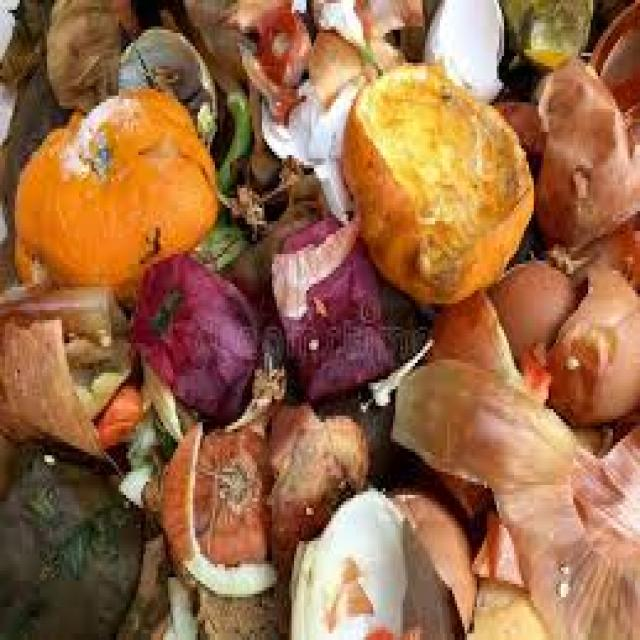organic waste: (0, 0, 638, 637), (383, 349, 638, 636), (341, 56, 531, 300), (10, 85, 217, 294), (0, 432, 146, 637), (529, 49, 637, 248), (269, 211, 388, 389), (0, 287, 126, 455), (156, 416, 272, 594), (467, 343, 549, 591), (131, 247, 252, 406), (190, 363, 282, 561), (286, 485, 402, 637), (264, 399, 368, 558), (257, 69, 361, 218), (546, 257, 638, 419), (217, 155, 324, 284), (390, 485, 474, 637), (469, 501, 561, 637), (482, 257, 586, 376), (0, 63, 67, 231), (116, 23, 213, 135), (40, 0, 131, 109), (121, 350, 180, 504), (422, 294, 524, 379), (180, 0, 270, 96), (423, 0, 504, 99), (111, 528, 173, 637), (544, 218, 638, 284), (188, 570, 282, 636), (496, 0, 590, 63), (588, 4, 638, 116), (250, 0, 314, 86), (306, 27, 381, 92), (353, 0, 422, 66), (208, 59, 247, 175), (489, 96, 546, 162), (0, 0, 42, 82), (92, 379, 144, 442), (158, 574, 203, 637), (190, 218, 247, 264), (309, 0, 361, 49), (568, 422, 638, 456), (519, 346, 553, 406), (0, 224, 20, 284), (151, 3, 178, 23)
